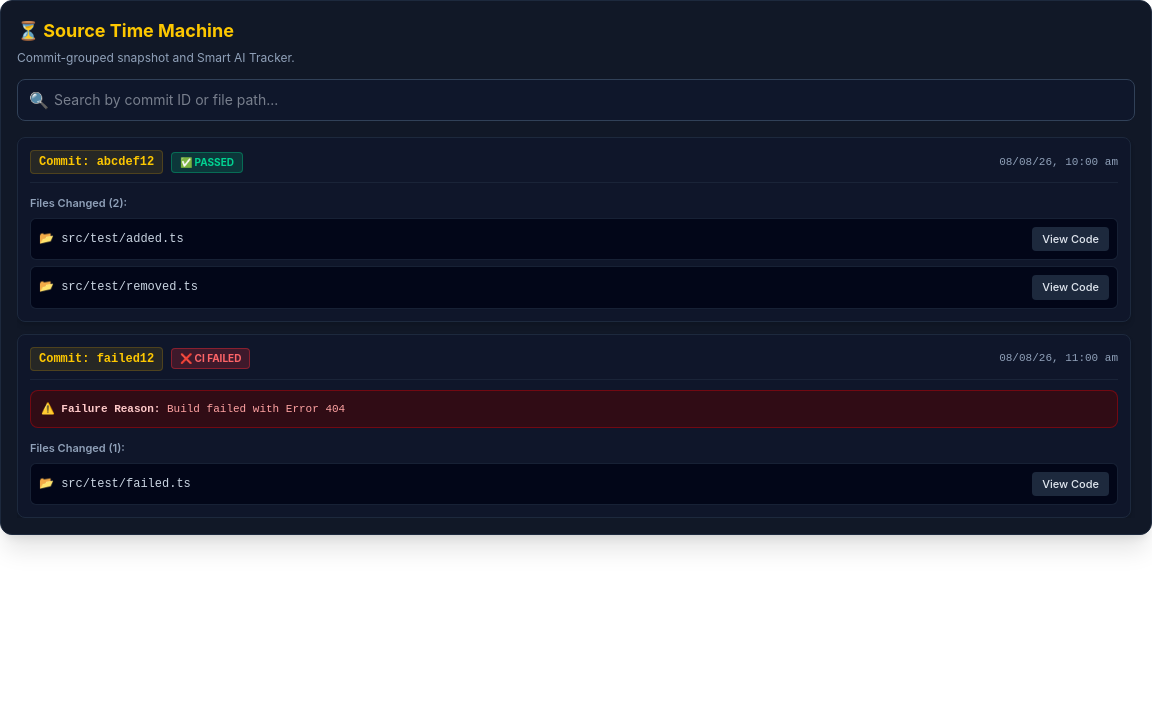
TimeMachineCard › handles missing version content
The image size is (1152, 720).
Click the text "📂 src/test/added.ts". click: x=111, y=239
box: [39,230,184,248]
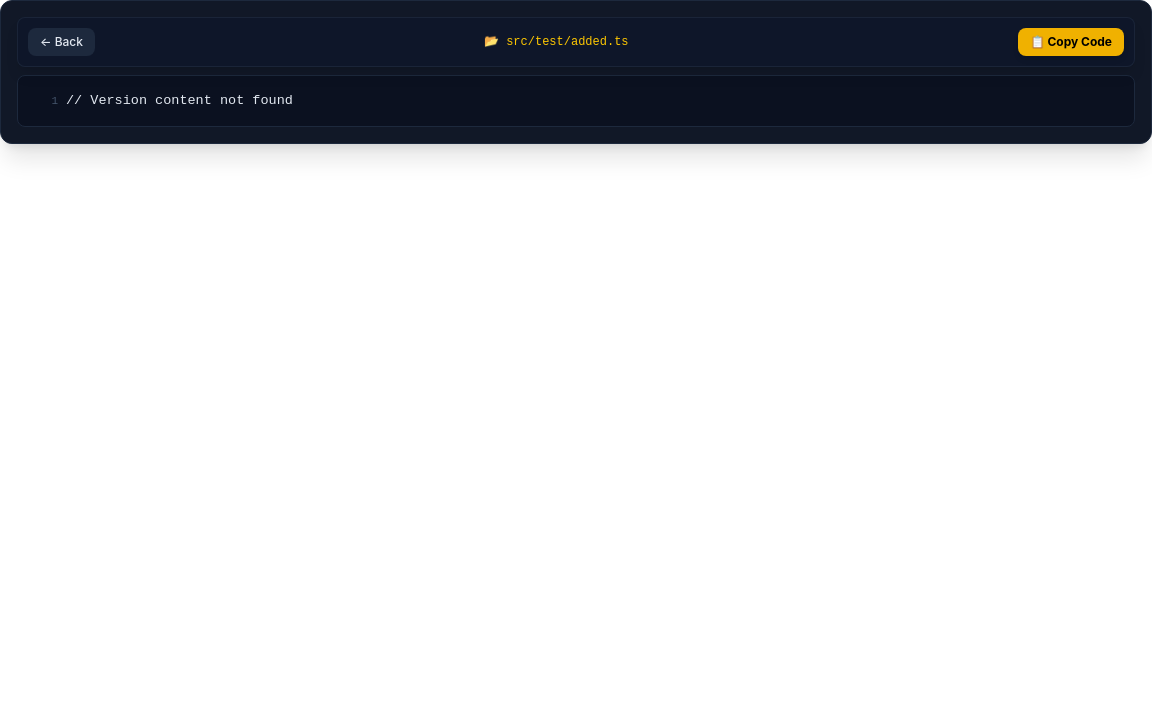
Result: the text "// Version content not found" is shown at [66,93,293,108]
